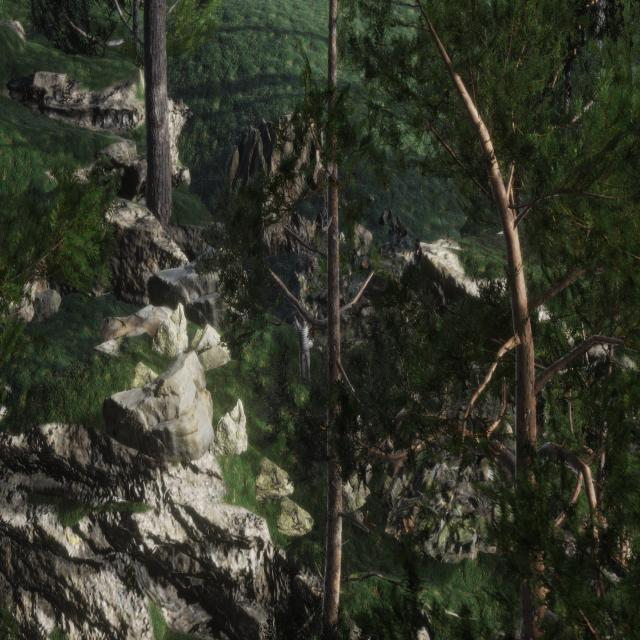Human: (286, 307, 318, 398)
